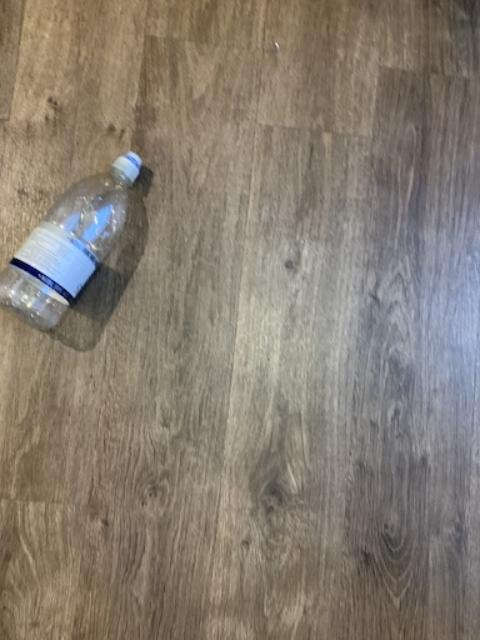plastic: (0, 150, 140, 328)
